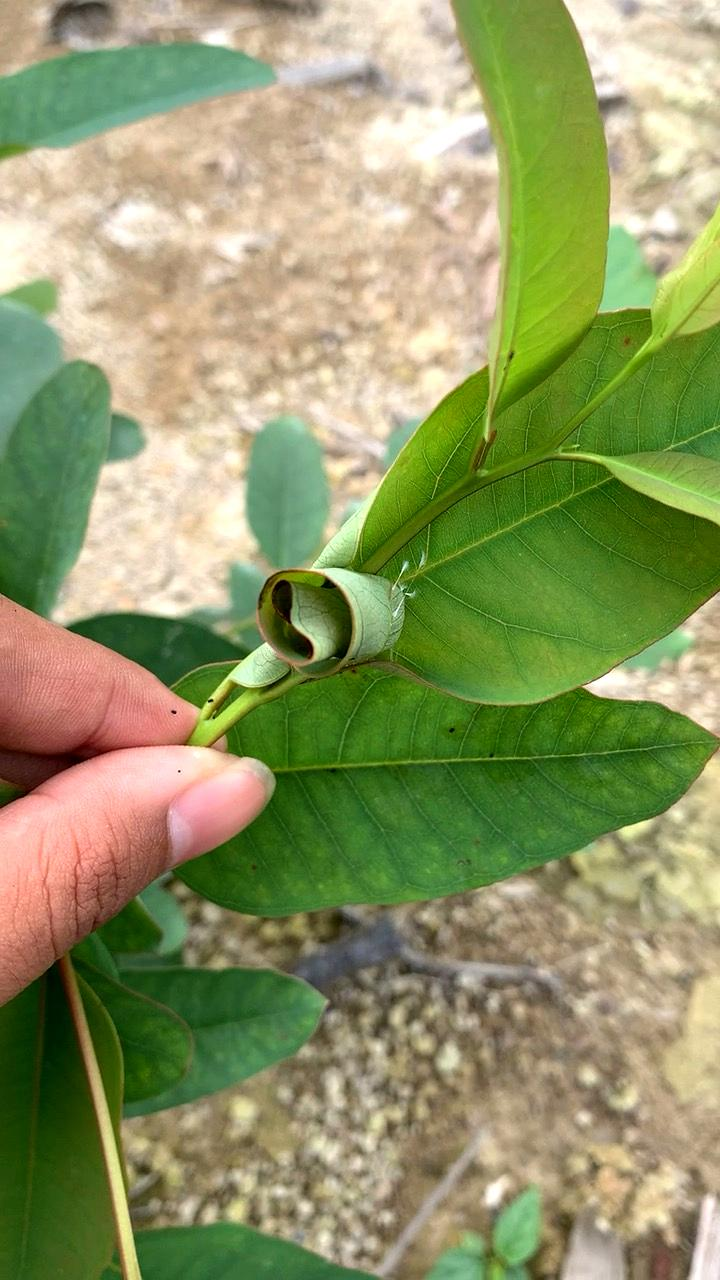Leaf Roller - Leaf: (226, 530, 439, 692)
